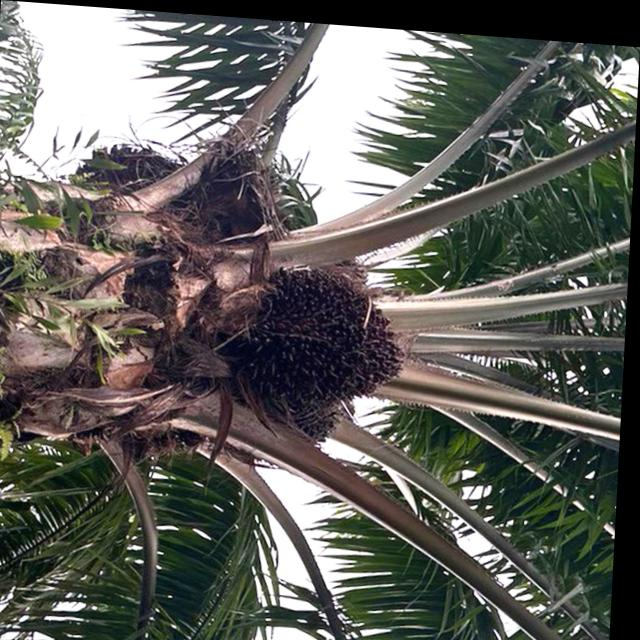ripe: (245, 244, 419, 440)
